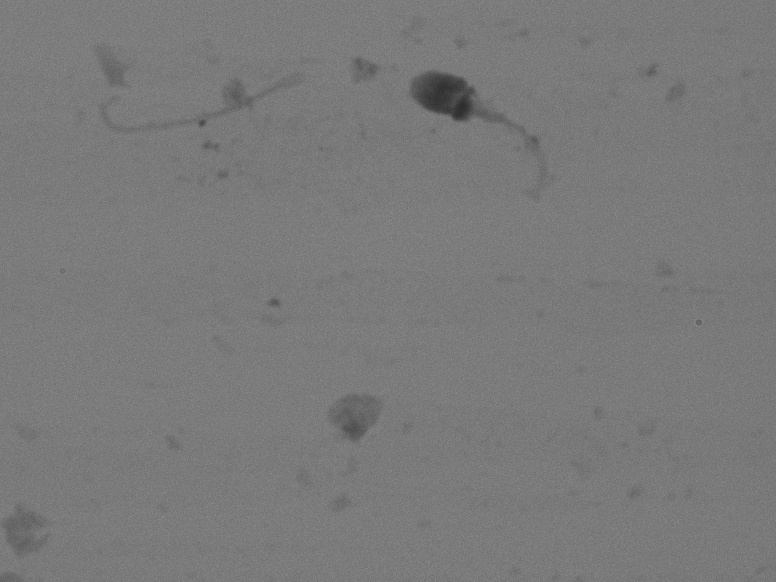Abnormal: (387, 30, 592, 236)
